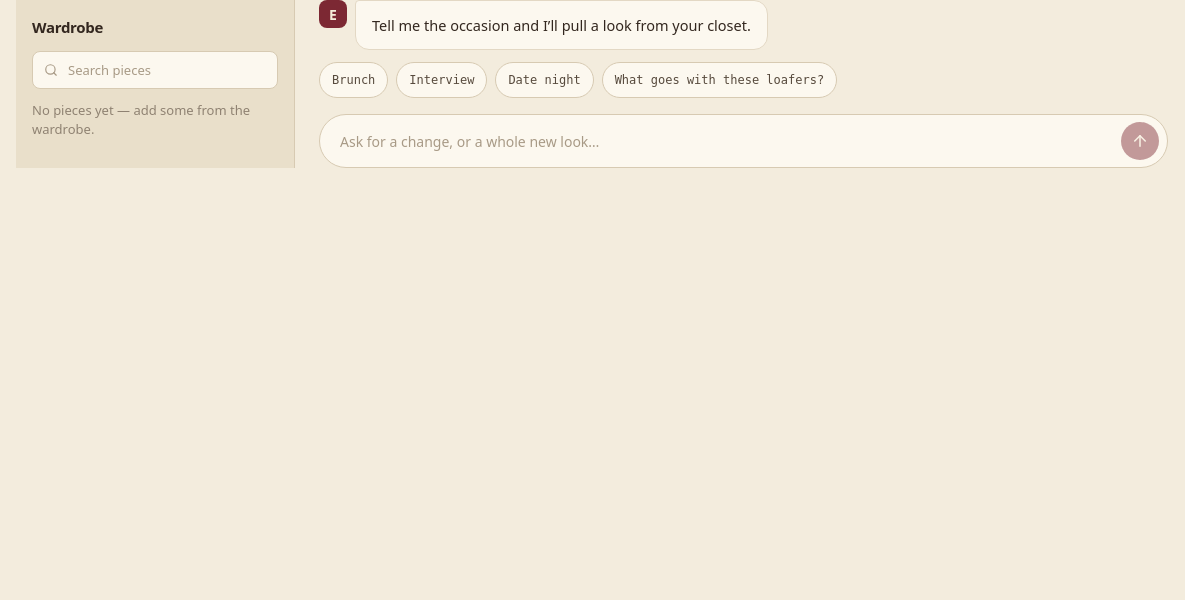
it: Stylist route › logs a worn look: marks every rendered piece worn and locks to "Logged ✓"
Type "streetwear today" into the field named "message the stylist" at [724, 142], box [338,131,1111,152]
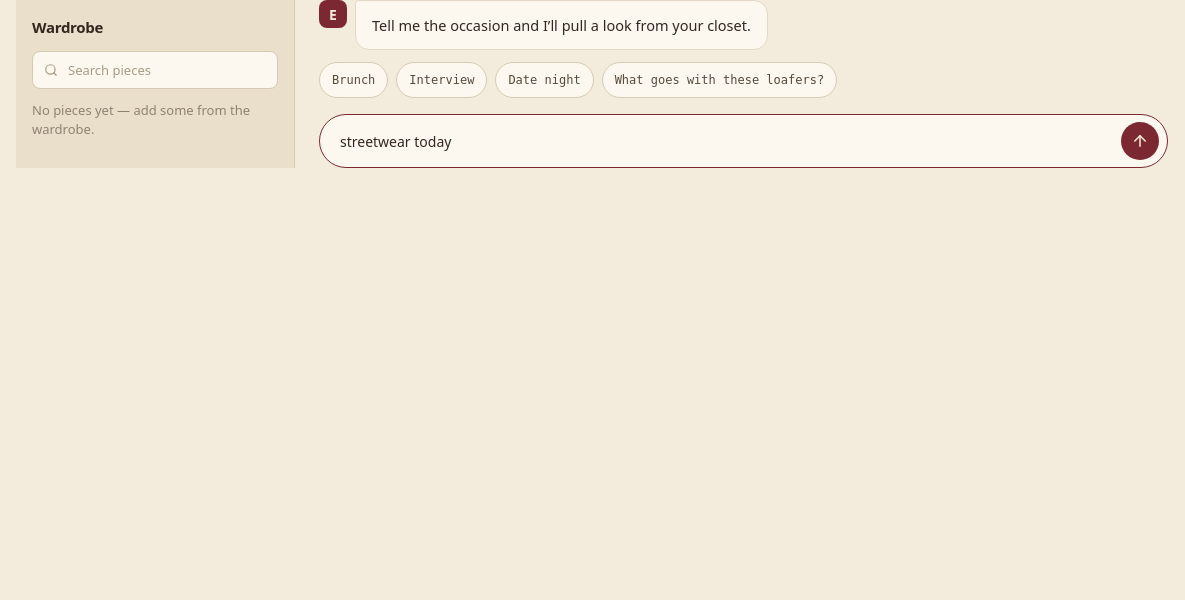
Click the button named "send" at [1140, 142], box [1121,122,1159,160]
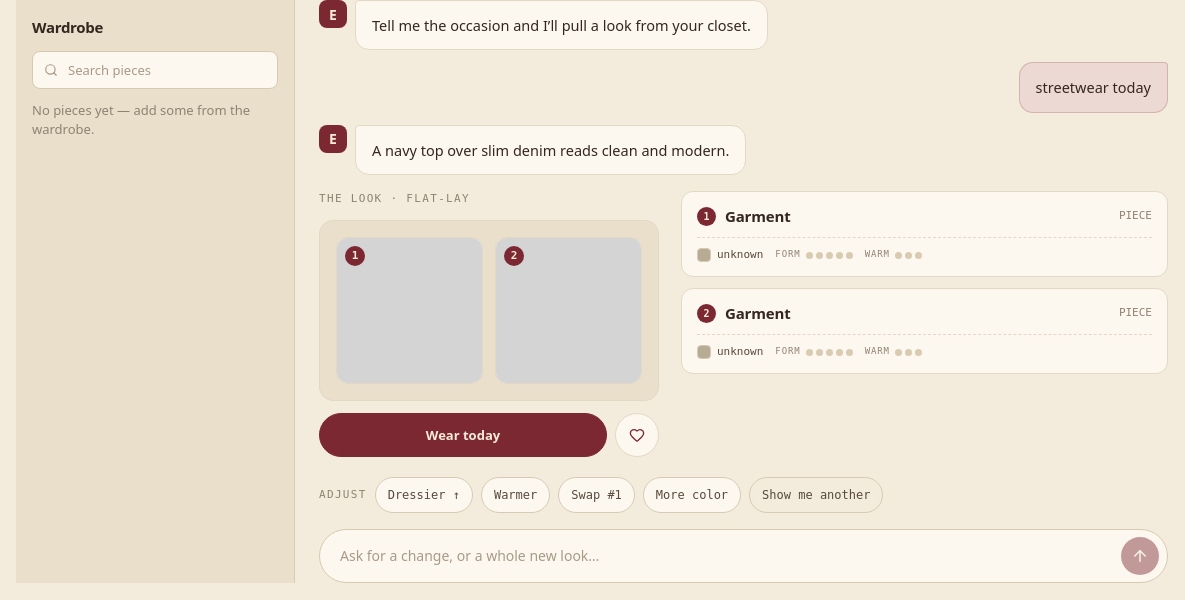
expect the text "A navy top over slim denim reads clean and modern." is shown: met, box [355,125,746,175]
Click the button "Wear today" at [463, 435], box [319,413,607,457]
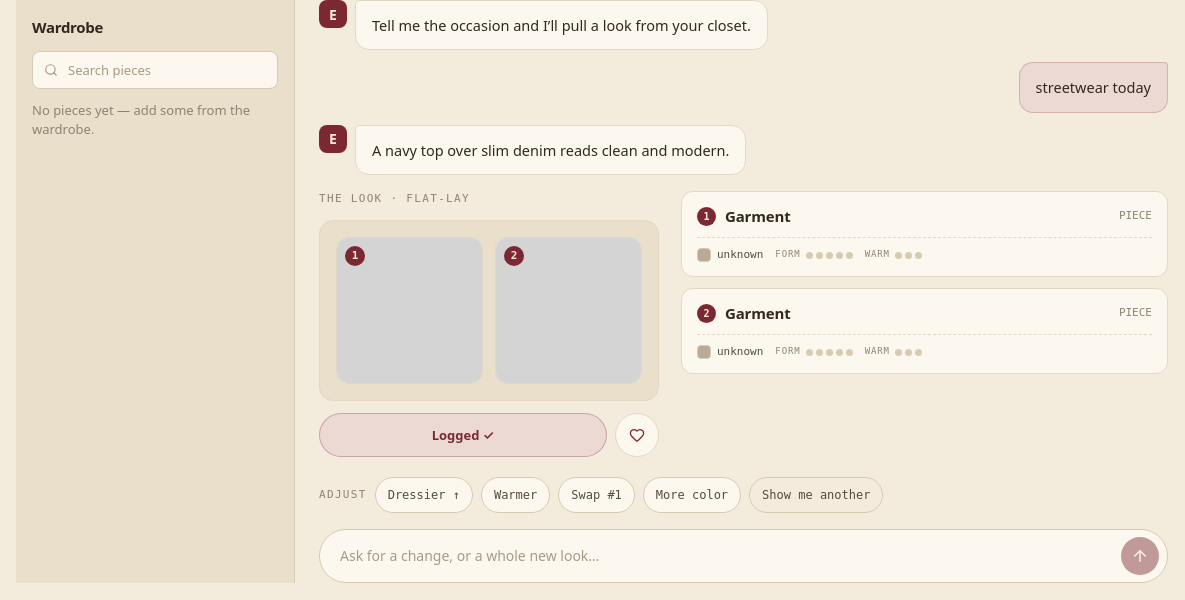
expect the button "Logged ✓" is disabled: met, box [319,413,607,457]
